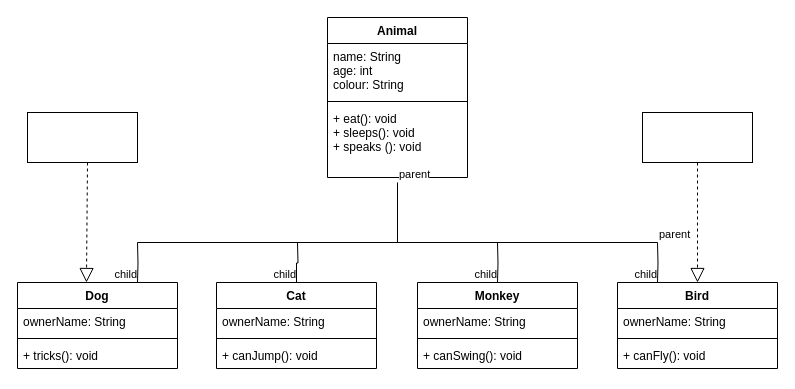
The diagram is 795 pixels wide and 389 high, and some of its shapes have lost their labels. Each missing label, with the centre of its shape:
<<Flyable>> + fly(): void: pixel 697 137
<<Legs>> + hasLegs(): void: pixel 82 137
